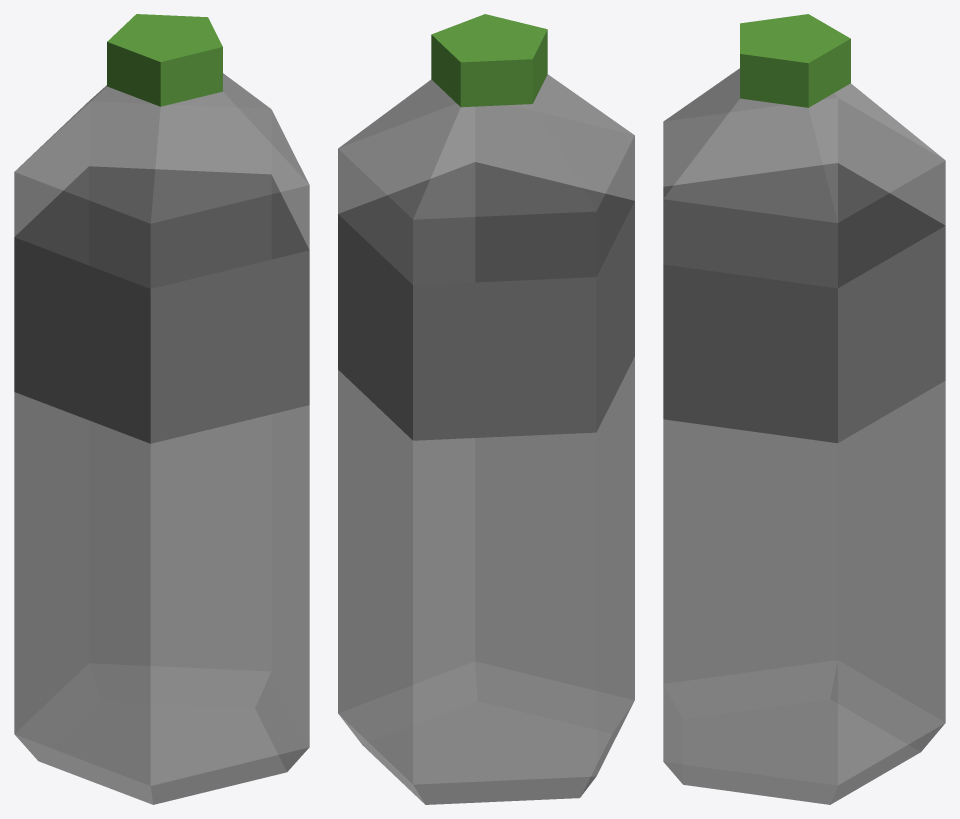
The model's file is bottle.obj.
3 renders of one model, left to right at view 1: azimuth 30°, elevation 25°; view 2: azimuth 150°, elevation 25°; view 3: azimuth 270°, elevation 25°, orthographic.
Visible parts, largest first — view 1: Circle.001; view 2: Circle.001; view 3: Circle.001.
Part boxes in pixels (bbox=[...]): Circle.001: bbox=[14, 14, 309, 804]; Circle.001: bbox=[338, 14, 634, 804]; Circle.001: bbox=[663, 14, 945, 804].
Bounding box in the file's own units: 0.2378 × 0.6301 × 0.2261.
